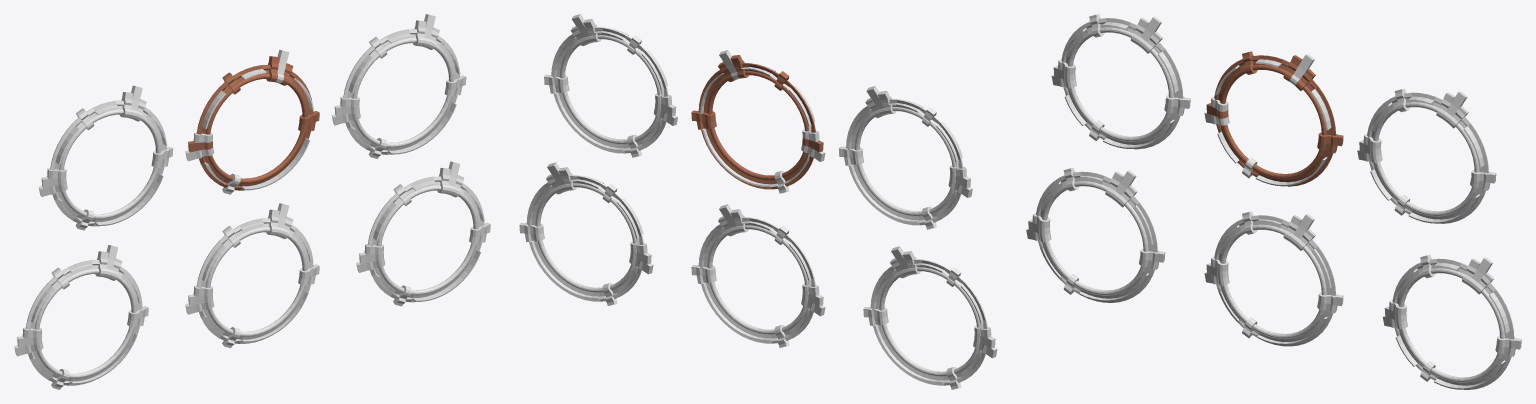
File: hacku2023warpring (1).fbx
3 renders of one model, left to right at view 1: azimuth 30°, elevation 25°; view 2: azimuth 150°, elevation 25°; view 3: azimuth 330°, elevation 25°, orthographic. The views are drawn at different scales.
Visible parts, largest first — view 1: Torus.004, Torus.005, Torus.003, Torus.001, Torus.002, Torus; view 2: Torus.001, Torus.005, Torus.003, Torus.004, Torus, Torus.002; view 3: Torus.003, Torus.005, Torus.001, Torus.004, Torus, Torus.002.
Boxes of the visible parts, left/top/right/bottom form: Torus.004: left=38, top=85, right=173, bottom=230; Torus.005: left=331, top=14, right=466, bottom=158; Torus.003: left=185, top=50, right=319, bottom=194; Torus.001: left=356, top=161, right=490, bottom=306; Torus.002: left=14, top=245, right=148, bottom=389; Torus: left=185, top=203, right=319, bottom=348; Torus.001: left=519, top=162, right=653, bottom=305; Torus.005: left=544, top=14, right=677, bottom=157; Torus.003: left=691, top=50, right=825, bottom=193; Torus.004: left=839, top=86, right=972, bottom=229; Torus: left=691, top=204, right=825, bottom=347; Torus.002: left=863, top=246, right=997, bottom=389; Torus.003: left=1204, top=51, right=1343, bottom=186; Torus.005: left=1357, top=88, right=1496, bottom=223; Torus.001: left=1383, top=254, right=1521, bottom=389; Torus.004: left=1051, top=14, right=1190, bottom=149; Torus: left=1204, top=211, right=1343, bottom=346; Torus.002: left=1026, top=167, right=1165, bottom=302.
Size of the model in its own units: 972 by 556 by 27.69.
